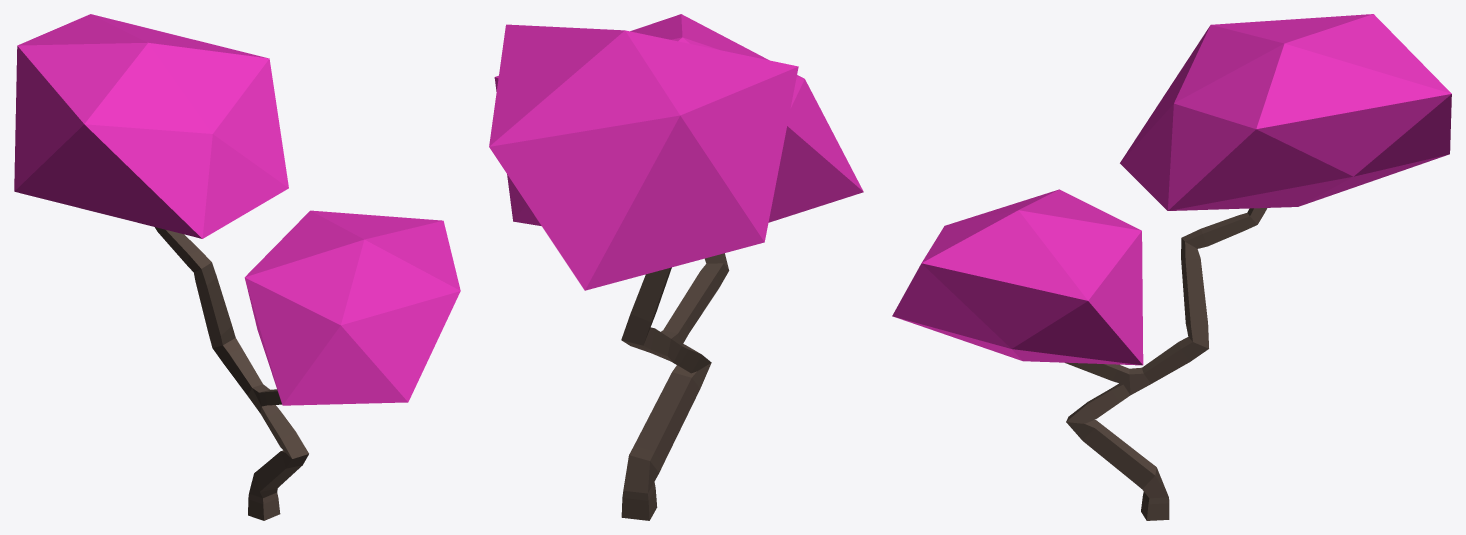
File: Arbol 3.fbx
3 renders of one model, left to right at view 1: azimuth 30°, elevation 25°; view 2: azimuth 150°, elevation 25°; view 3: azimuth 270°, elevation 25°, orthographic. The views are drawn at different scales.
Visible parts, largest first — view 1: polySurface9; view 2: polySurface9; view 3: polySurface9.
Part boxes in pixels (x1,y1,x2,y2): polySurface9: (14,14,460,520); polySurface9: (489,14,863,520); polySurface9: (892,14,1451,520).
Size of the model in its own units: 25.64 by 33.52 by 38.06.
